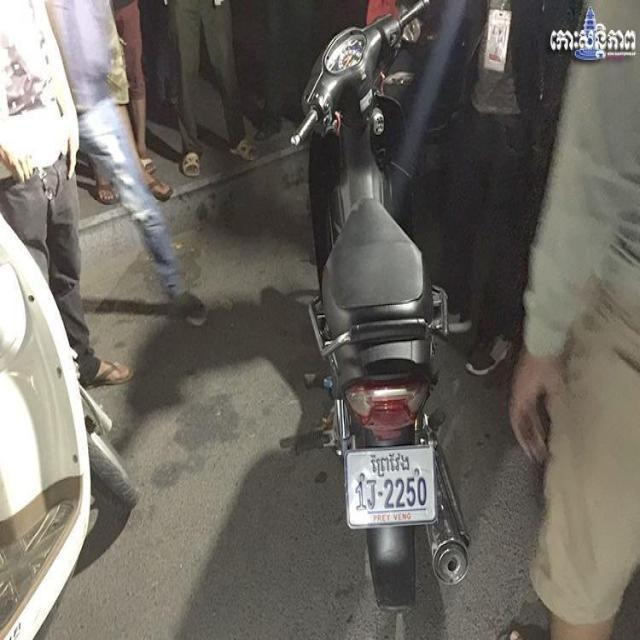Prey_Veng: (368, 450, 412, 480)
